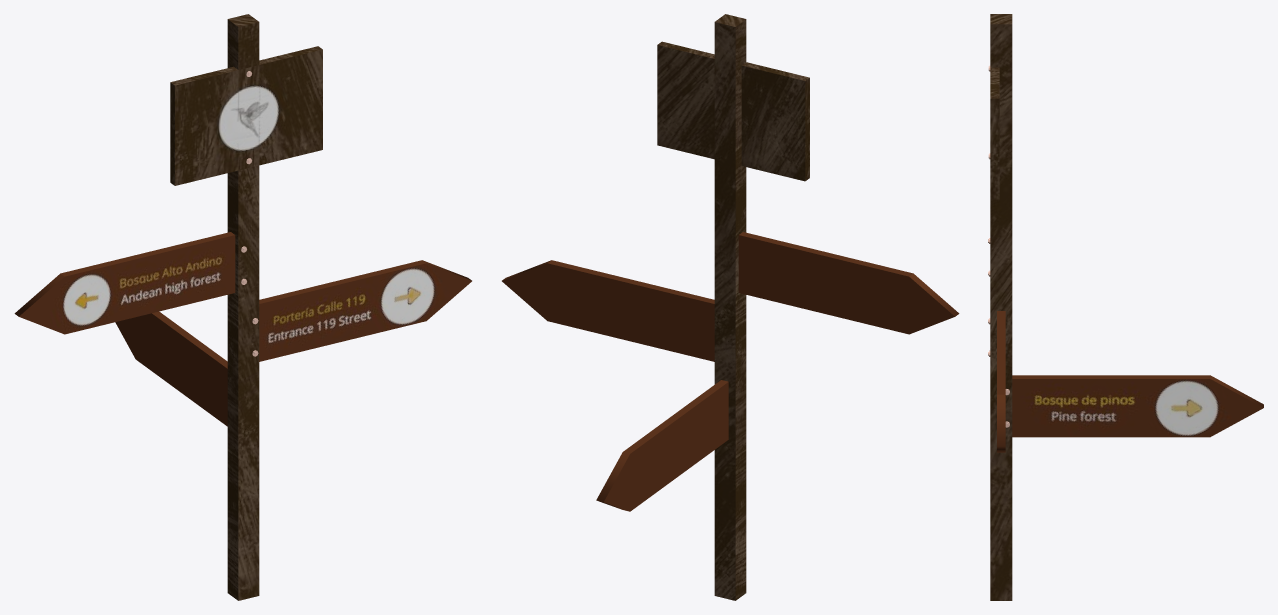
Rendered from letrero-indicaciones.glb.
The picture shows the model from 3 angles, left to right: view 1: azimuth 30°, elevation 25°; view 2: azimuth 150°, elevation 25°; view 3: azimuth 270°, elevation 25°; orthographic projection.
Size of the model in its own units: 13.81 by 16.69 by 7.23.
6 materials, 6 textured.
